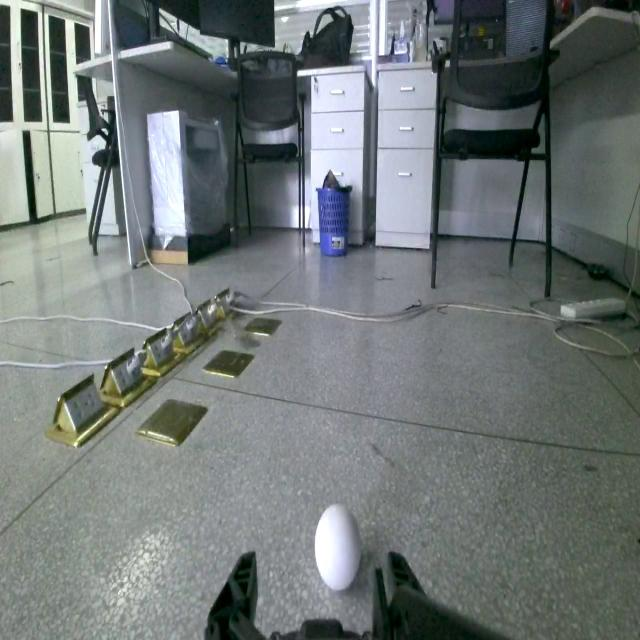ball1: (314, 500, 364, 596)
